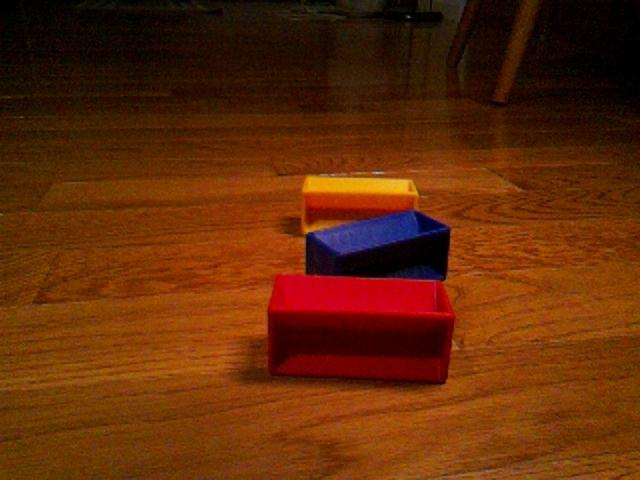blue: (304, 208, 452, 281)
red: (266, 271, 456, 385)
yellow: (300, 173, 420, 235)
